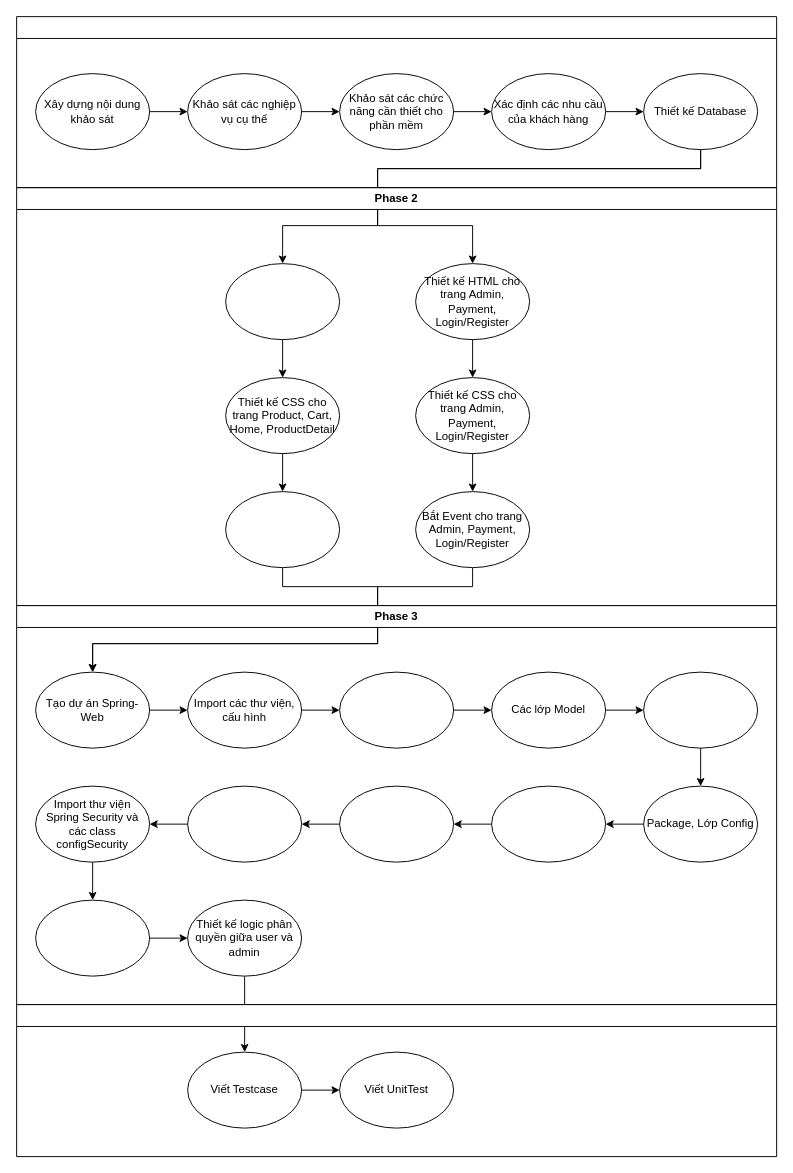
The diagram is 793 pixels wide and 1173 high, and some of its shapes have lost their labels. The shapes that lost their labels are listed below. From the top down, each one's box as (x1, y1, x2, y2) in pixels, then its label:
(16, 16, 777, 188): Phase 1
(225, 263, 340, 340): Thiết kế HTML cho trang Product, Cart, Home, ProductDetail
(225, 491, 340, 568): Bắt Event cho trang Product, Cart, Home, ProductDetail
(339, 671, 454, 748): Các lớp Controller
(643, 671, 758, 748): Các thư mục View, Resource Static
(187, 785, 302, 862): Package, Lớp Service
(339, 785, 454, 862): Package, Lớp DAO
(491, 785, 606, 862): Package, Lớp DTO
(35, 899, 150, 976): Thiết kế logic xác thực đăng nhập người dùng
(16, 1004, 777, 1157): Phase 4
